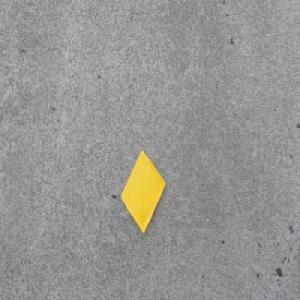PlasticPart: (120, 148, 166, 234)
